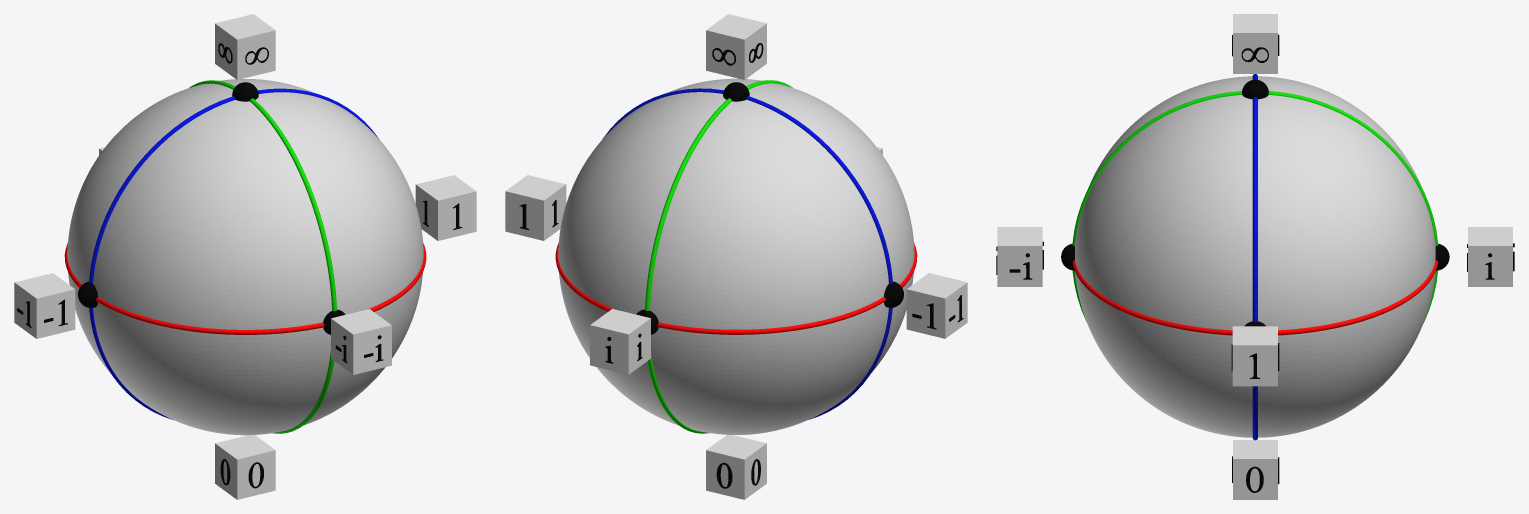
Rendered from riemann_sphere.glb.
The picture shows the model from 3 angles, left to right: view 1: azimuth 30°, elevation 25°; view 2: azimuth 150°, elevation 25°; view 3: azimuth 270°, elevation 25°; orthographic projection.
Visible parts, largest first — view 1: Sphere.006_41, Cube.002_13, Cube.005_23, Cube.006_28, Cube_8, Cube.007_33, BezierCircle.002_4, BezierCircle.001_3, BezierCircle_2; view 2: Sphere.006_41, Cube.004_18, Cube.002_13, Cube_8, Cube.006_28, Cube.007_33, BezierCircle.002_4, BezierCircle.001_3, BezierCircle_2; view 3: Sphere.006_41, Cube_8, Cube.005_23, Cube.004_18, Cube.006_28, Cube.007_33, BezierCircle.001_3, BezierCircle_2, BezierCircle.002_4.
Part boxes in pixels (x1,y1,x2,y2): Sphere.006_41: [67, 79, 423, 435]; Cube.002_13: [14, 273, 75, 338]; Cube.005_23: [331, 309, 391, 374]; Cube.006_28: [215, 14, 275, 79]; Cube_8: [415, 175, 476, 240]; Cube.007_33: [215, 435, 275, 499]; BezierCircle.002_4: [89, 88, 379, 420]; BezierCircle.001_3: [189, 80, 336, 433]; BezierCircle_2: [64, 242, 426, 334]; Sphere.006_41: [558, 78, 914, 434]; Cube.004_18: [590, 309, 650, 374]; Cube.002_13: [906, 273, 967, 338]; Cube_8: [505, 175, 566, 240]; Cube.006_28: [706, 14, 766, 79]; Cube.007_33: [706, 435, 766, 499]; BezierCircle.002_4: [603, 88, 892, 419]; BezierCircle.001_3: [645, 80, 792, 433]; BezierCircle_2: [555, 242, 917, 334]; Sphere.006_41: [1075, 76, 1435, 437]; Cube_8: [1232, 326, 1277, 386]; Cube.005_23: [997, 227, 1042, 286]; Cube.004_18: [1468, 227, 1512, 286]; Cube.006_28: [1233, 14, 1277, 73]; Cube.007_33: [1233, 440, 1277, 499]; BezierCircle.001_3: [1072, 91, 1438, 322]; BezierCircle_2: [1072, 260, 1438, 335]; BezierCircle.002_4: [1252, 74, 1257, 440].
Size of the model in its own units: 28.65 by 28.5 by 28.66.
